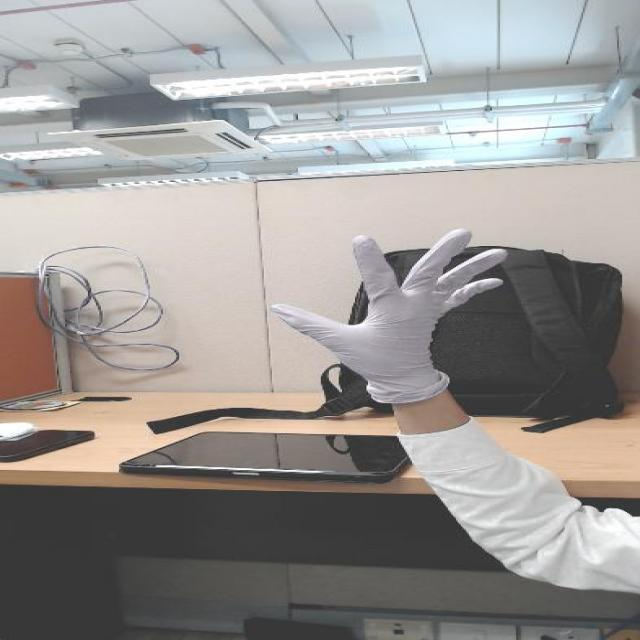with_gloves: (253, 220, 524, 346)
